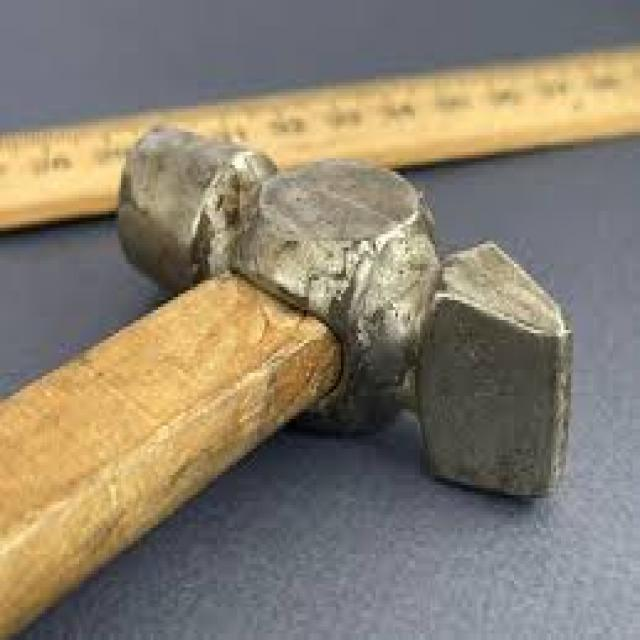hammer: (0, 115, 581, 640)
